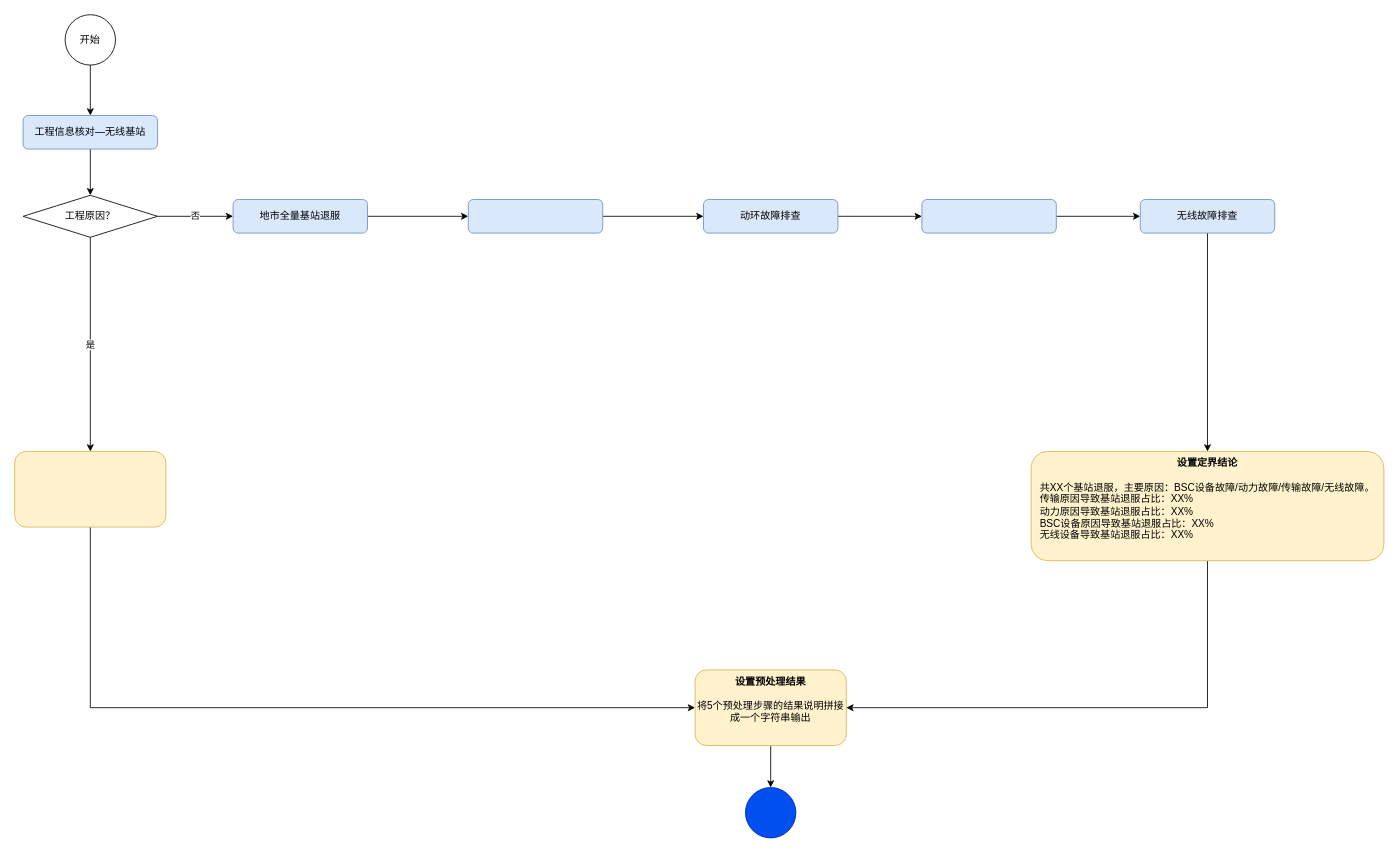
The diagram is 1399 pixels wide and 853 high, and some of its shapes have lost their labels. Each missing label, with the box of its shape:
BSC故障排查: (467, 199, 603, 233)
传输故障排查—GSM基站退服: (921, 199, 1056, 233)
结束: (745, 787, 796, 838)
设置定界结论 工程原因导致: (14, 451, 166, 527)
